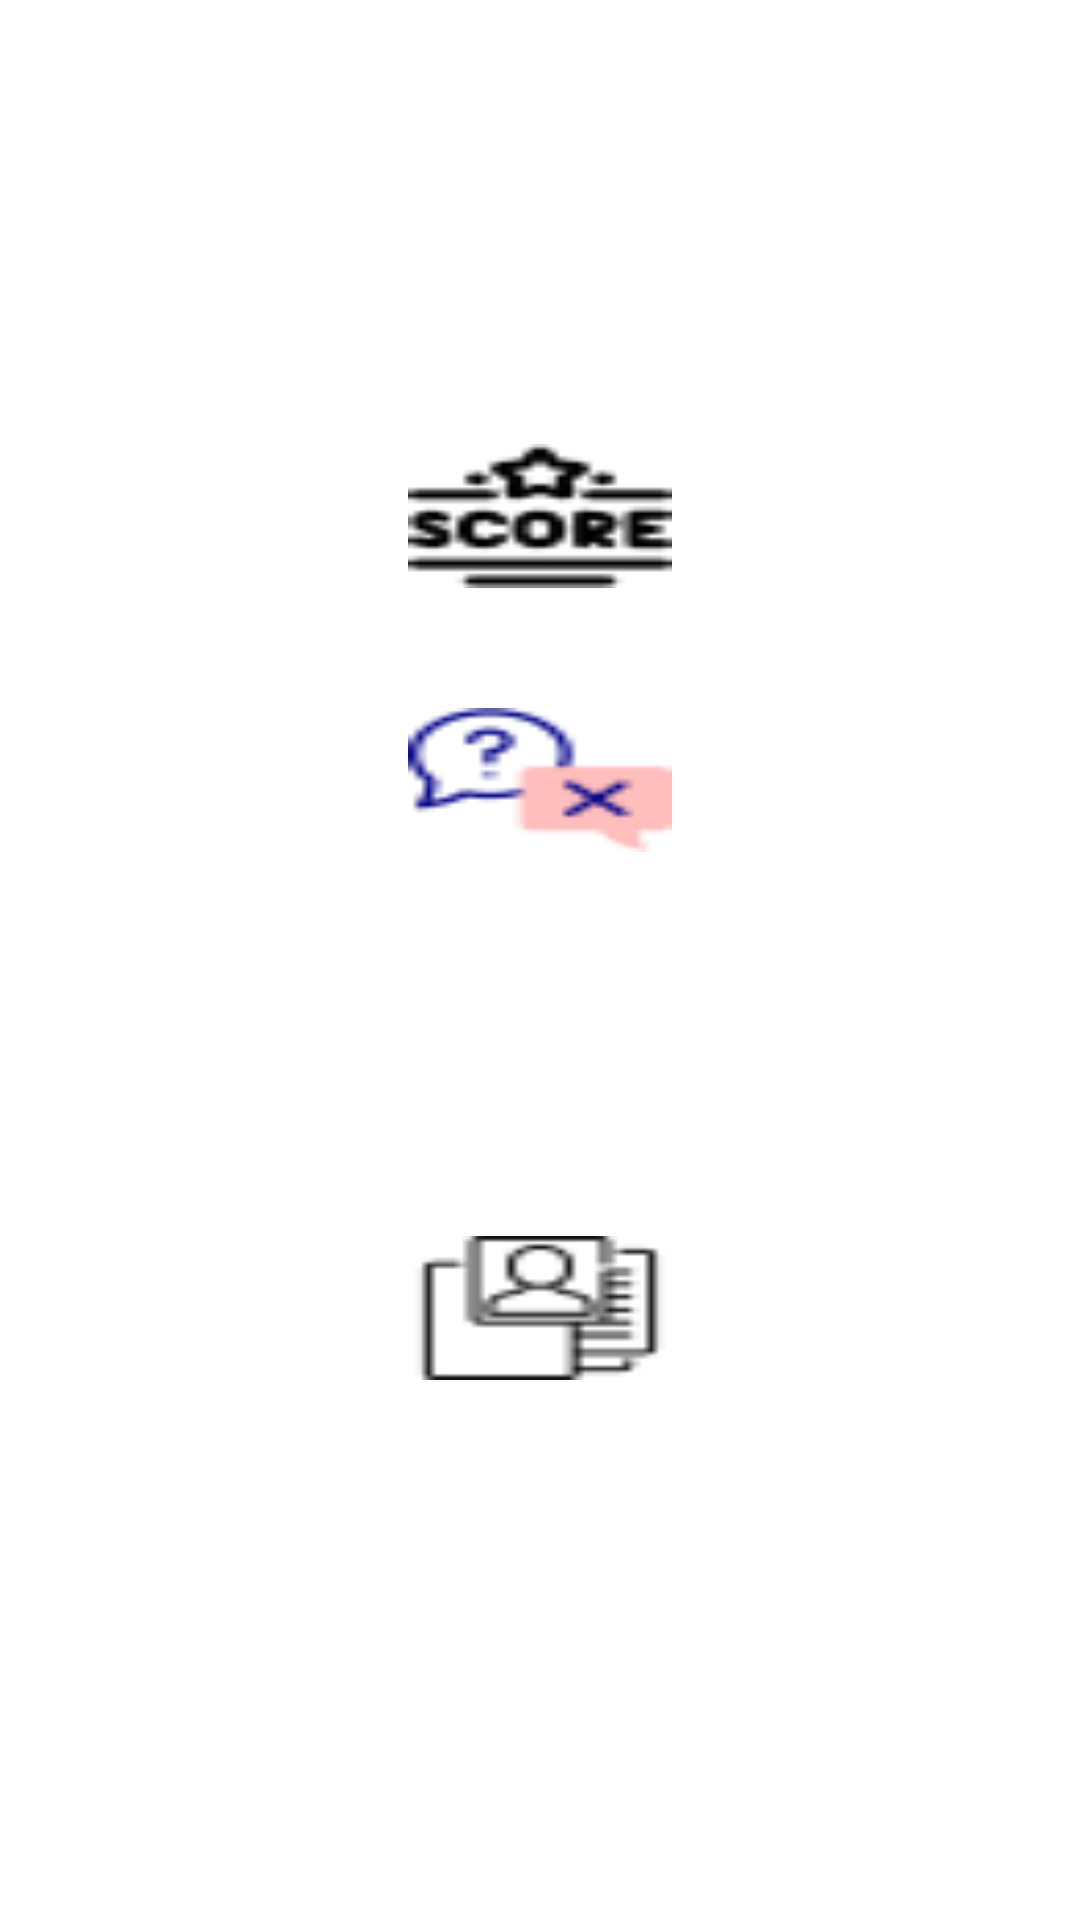

Icon bounding boxes for this 1080x1920 phone screenshot, format BBox(x1, y1, x2, y2):
personalinfo: BBox(421, 1236, 659, 1380)
wrong: BBox(408, 708, 672, 852)
